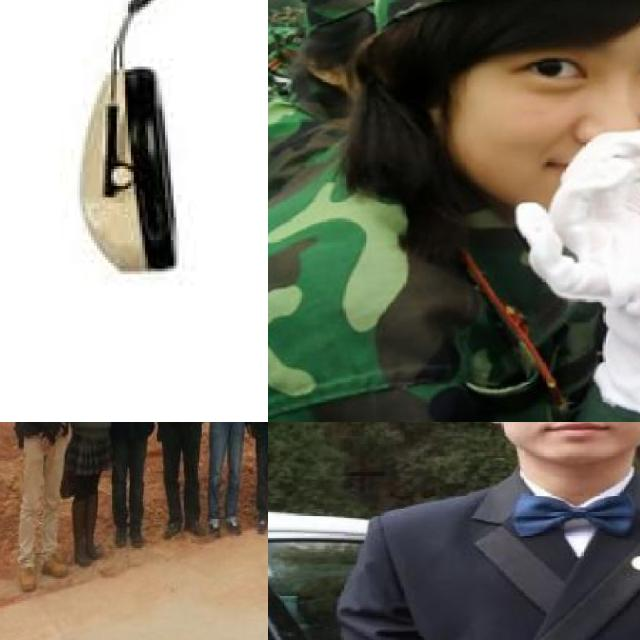Ear-protection: (76, 0, 268, 288)
face_nomask: (441, 5, 640, 201), (510, 422, 640, 456)
hand_glove: (520, 113, 640, 379)
person: (291, 0, 640, 422), (340, 422, 640, 640), (12, 422, 76, 599), (60, 422, 119, 575), (107, 422, 161, 557), (153, 422, 208, 547), (202, 422, 254, 544), (246, 422, 268, 540)
shoes: (84, 498, 106, 564), (69, 499, 90, 567), (38, 554, 72, 580), (16, 561, 38, 595), (225, 512, 249, 538), (182, 516, 206, 540), (160, 516, 182, 542), (204, 515, 226, 540), (127, 526, 148, 552), (113, 524, 128, 549), (253, 512, 268, 535)
